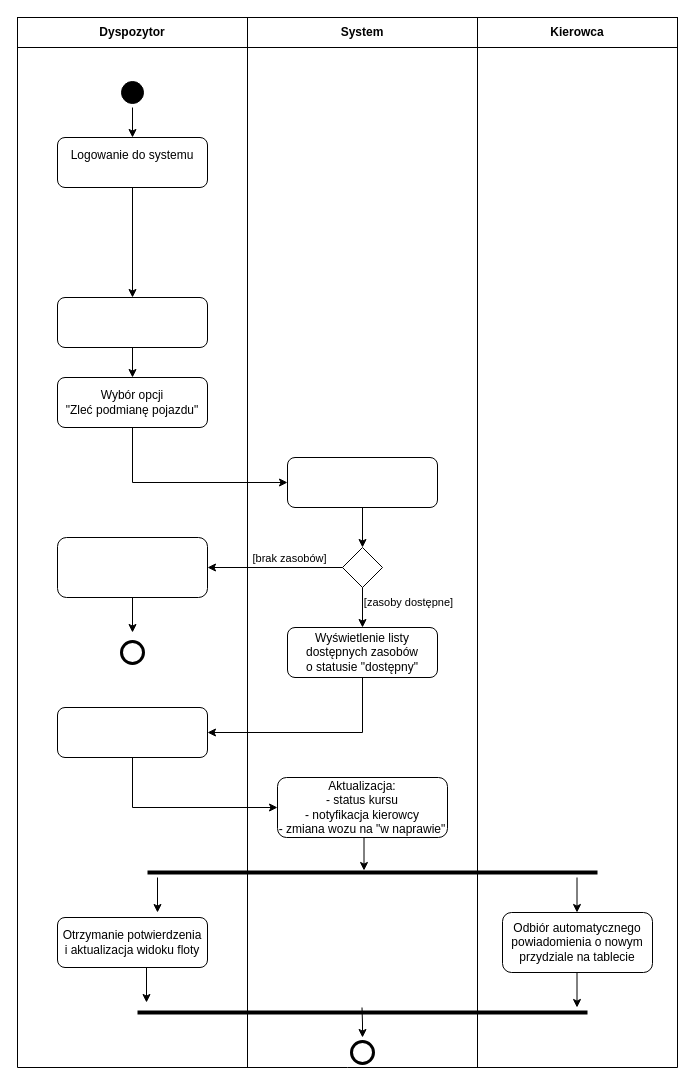
This 696x1086 diagram has some shape labels left out. The shapes that lost their labels are listed below. From the top down, each one's centre as x and y in pixels, then its label:
At point 132,322: "Analiza alertu o usterce krytycznej pojazdu".
At point 362,482: "Wyszukanie wolnych autobusów".
At point 132,567: "Podjęcie decyzji o przerwaniu kursu".
At point 132,732: "Wybór pojazdu i kierowcy z listy oraz zatwierdzenie".
